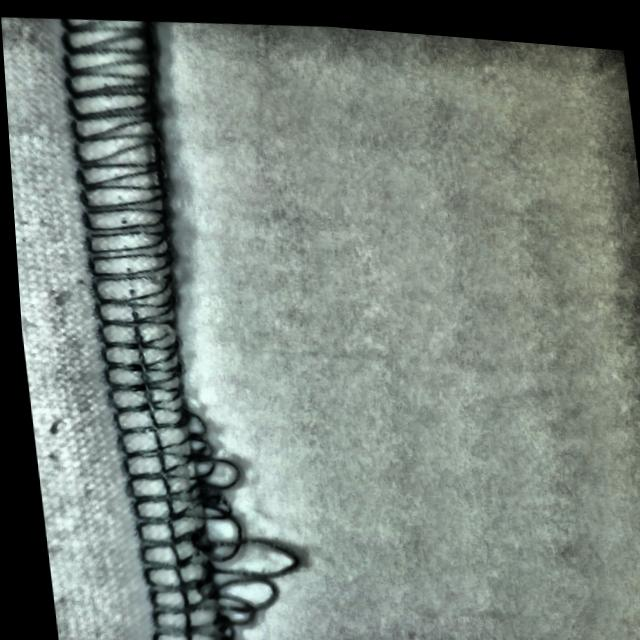Stitch: (105, 401, 304, 640)
